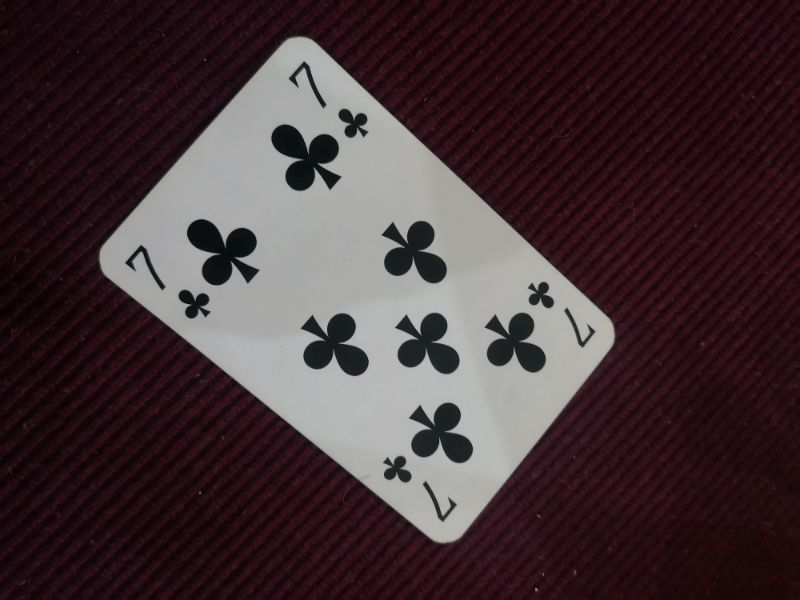7c: (122, 242, 217, 324), (286, 58, 373, 144), (381, 451, 462, 527), (525, 274, 599, 348)
